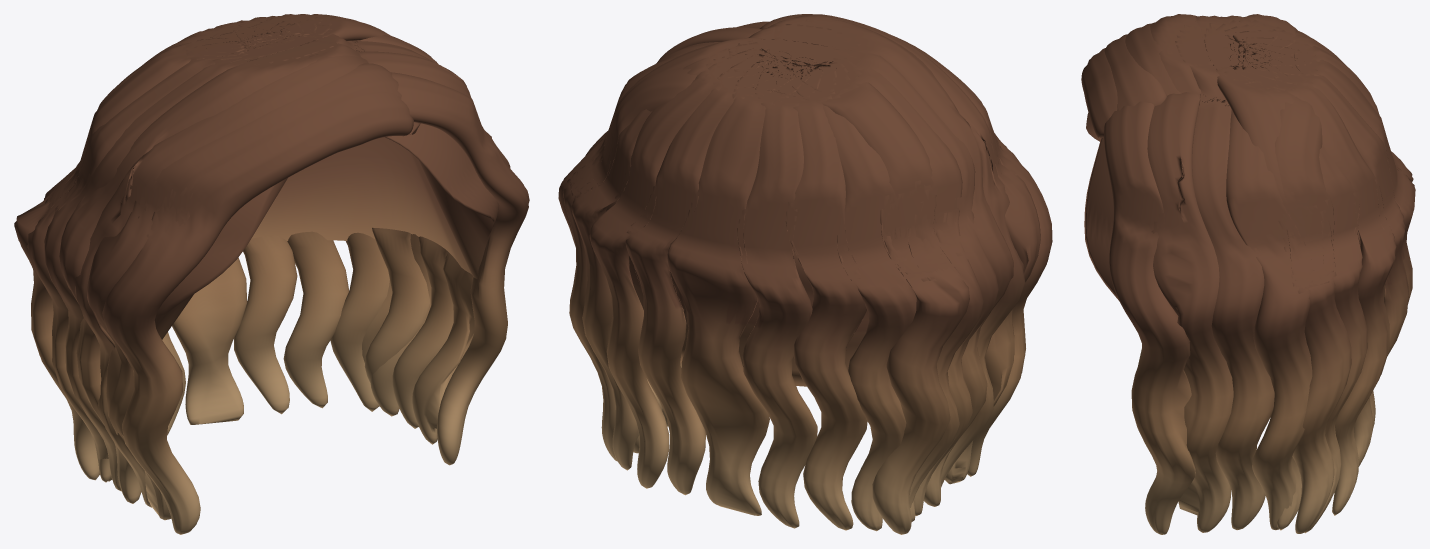
File: Ombre-ac8048e2a6a2253-hair.glb
3 views of the same model, side by side, from view 1: azimuth 30°, elevation 25°; view 2: azimuth 150°, elevation 25°; view 3: azimuth 270°, elevation 25° (orthographic). The views are drawn at different scales.
Visible parts, largest first — view 1: 226 hair / Hair / sculpted 0.004, 226 hair / Hair / sculpted 1.008, 226 hair / Hair / sculpted 2.004, 226 hair / Hair / sculpted 1.007; view 2: 226 hair / Hair / sculpted 2.004, 226 hair / Hair / sculpted 0.004, 226 hair / Hair / sculpted 1.008, 226 hair / Hair / sculpted 1.007; view 3: 226 hair / Hair / sculpted 1.008, 226 hair / Hair / sculpted 2.004, 226 hair / Hair / sculpted 0.004, 226 hair / Hair / sculpted 1.007.
Boxes of the visible parts, x1,y1,x2,y2 form: 226 hair / Hair / sculpted 0.004: [14, 14, 453, 534]; 226 hair / Hair / sculpted 1.008: [44, 16, 529, 520]; 226 hair / Hair / sculpted 2.004: [27, 14, 510, 507]; 226 hair / Hair / sculpted 1.007: [154, 123, 499, 339]; 226 hair / Hair / sculpted 2.004: [562, 14, 1025, 531]; 226 hair / Hair / sculpted 0.004: [585, 15, 1052, 534]; 226 hair / Hair / sculpted 1.008: [558, 14, 1040, 530]; 226 hair / Hair / sculpted 1.007: [606, 201, 869, 386]; 226 hair / Hair / sculpted 1.008: [1104, 15, 1408, 534]; 226 hair / Hair / sculpted 2.004: [1125, 15, 1415, 533]; 226 hair / Hair / sculpted 0.004: [1081, 14, 1413, 530]; 226 hair / Hair / sculpted 1.007: [1084, 113, 1385, 300].
Size of the model in its own units: 1.13 by 1.1 by 0.7813.
Materials: 4 (4 with a texture image).
